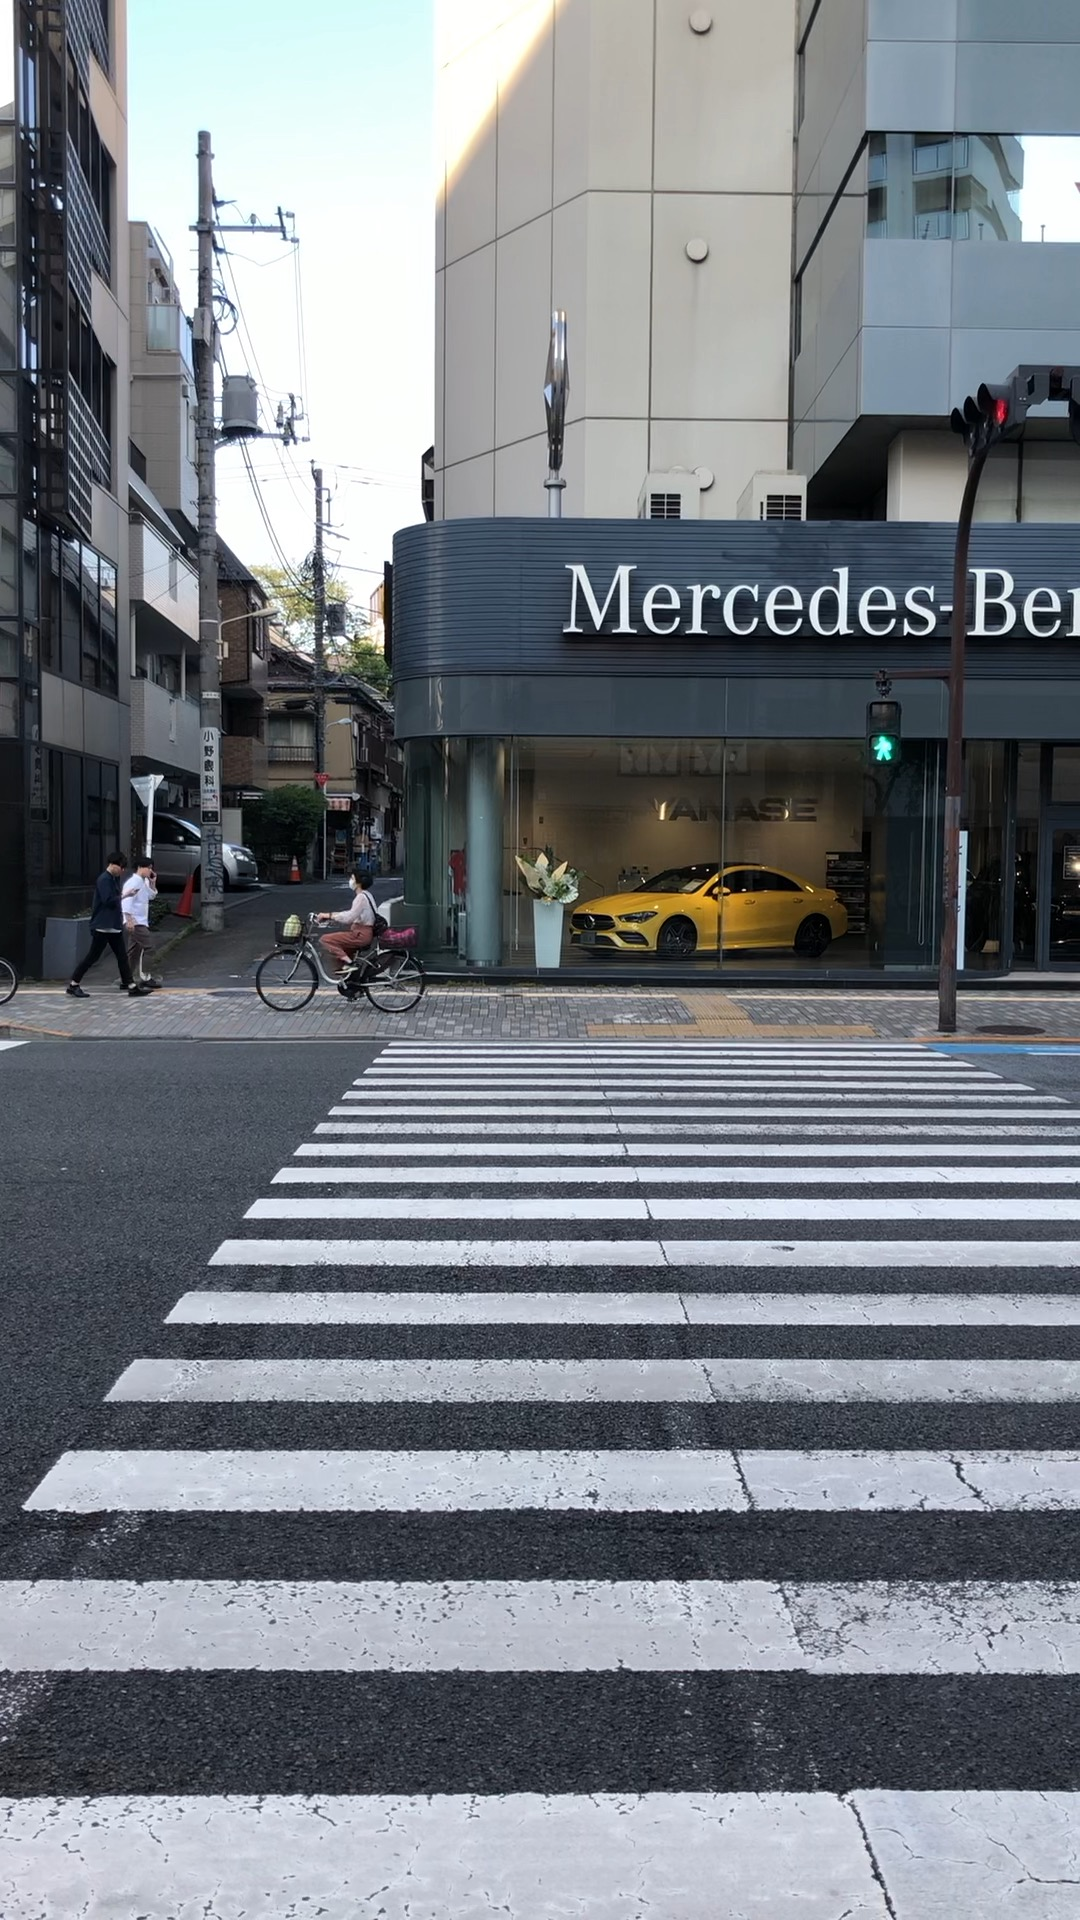green: (865, 700, 901, 766)
